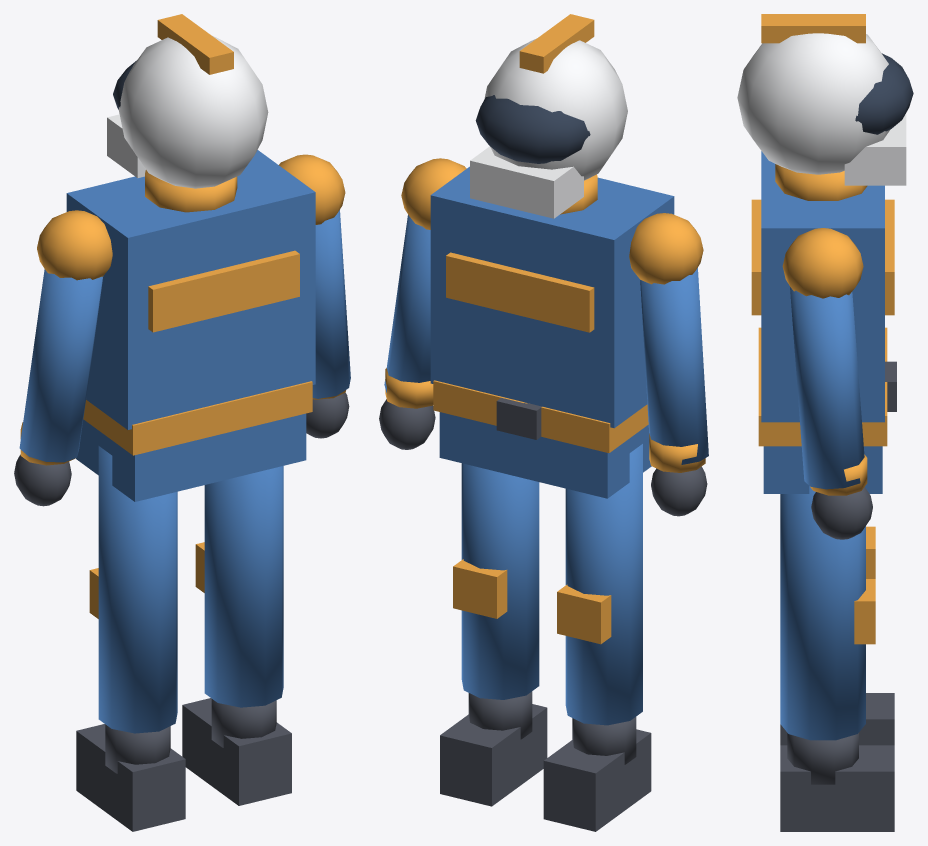
The model's file is personagem.glb.
The picture shows the model from 3 angles, left to right: view 1: azimuth 30°, elevation 25°; view 2: azimuth 150°, elevation 25°; view 3: azimuth 270°, elevation 25°; orthographic projection. The views are drawn at different scales.
Parts seen in each view (by area): view 1: Personagem; view 2: Personagem; view 3: Personagem.
Boxes of the visible parts, x1,y1,x2,y2 form: Personagem: (14,14,350,831); Personagem: (379,14,708,831); Personagem: (737,14,913,831).
Size of the model in its own units: 0.8 by 1.79 by 0.37.
